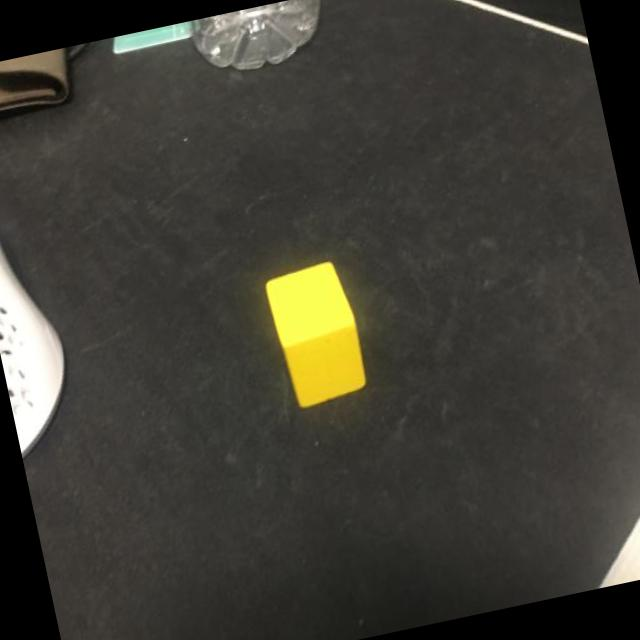yellow: (263, 256, 369, 408)
